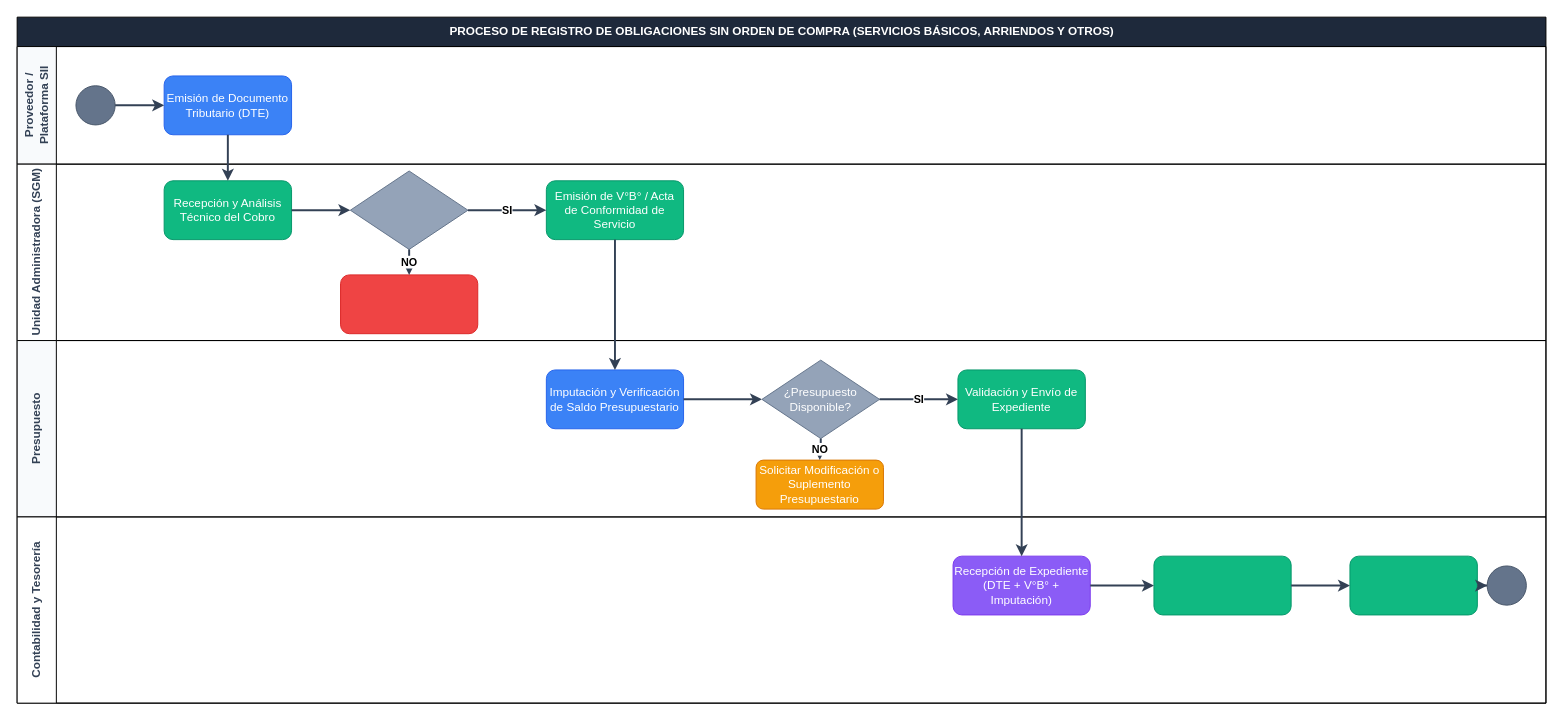
Some shapes in this 1563 by 720 pixel diagram are drawn without their labels. The centre of each missing label's shape, as x and y in pixels:
"Emisión y Firma de Decreto de Pago" belongs at (1413,585).
"Fin" belongs at (1506,585).
"Generar Rechazo de DTE en Portal SII / Notificar" belongs at (409,304).
"Inicio" belongs at (95,105).
"Registro Contable de Obligación (Devengado)" belongs at (1222,585).
"¿Cobro y Servicio Correctos?" belongs at (408,209).
